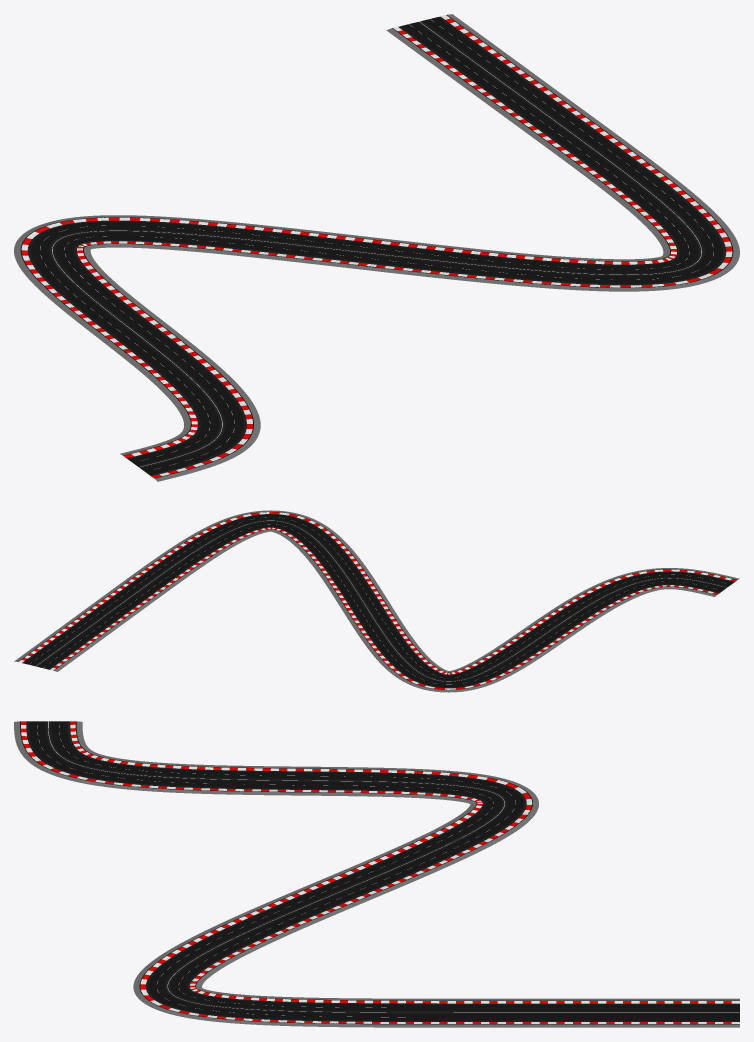
The model's file is S0.2c2h0-enn.glb.
3 views of the same model, one above another, from view 1: azimuth 30°, elevation 25°; view 2: azimuth 150°, elevation 25°; view 3: azimuth 270°, elevation 25° (orthographic). The views are drawn at different scales.
Parts seen in each view (by area): view 1: Grid; view 2: Grid; view 3: Grid.
Part boxes in pixels (<box>): Grid: <box>14,14,739,481</box>; Grid: <box>14,510,739,692</box>; Grid: <box>14,721,739,1027</box>.
Bounding box in the file's own units: 264 × 0.31 × 265.
